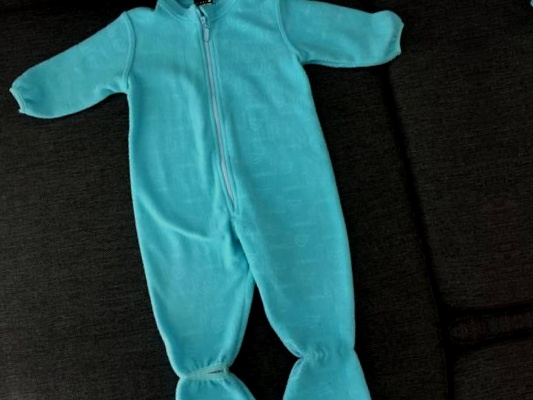Body: (0, 0, 467, 391), (46, 341, 532, 400), (506, 0, 533, 304), (0, 0, 403, 9)
